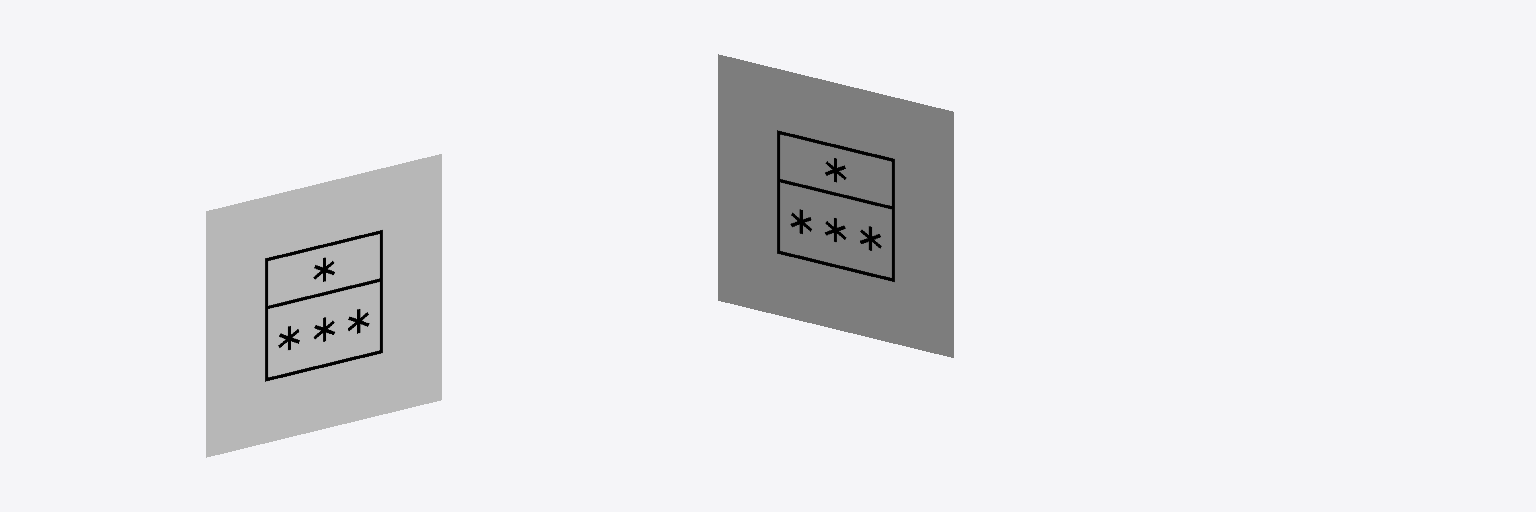
3 renders of one model, left to right at view 1: azimuth 30°, elevation 25°; view 2: azimuth 150°, elevation 25°; view 3: azimuth 270°, elevation 25°, orthographic.
Parts seen in each view (by area): view 1: Mesh; view 2: Mesh; view 3: none.
Boxes of the visible parts, <box> form: Mesh: <box>206,154,441,457</box>; Mesh: <box>718,54,953,357</box>.
Bounding box in the file's own units: 50 × 50 × 50.
Materials: 2 (2 with a texture image).